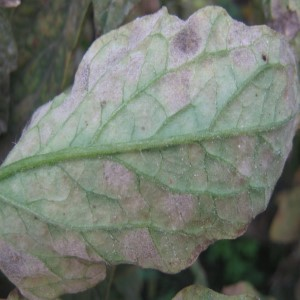cladosporium: (173, 27, 203, 56)
